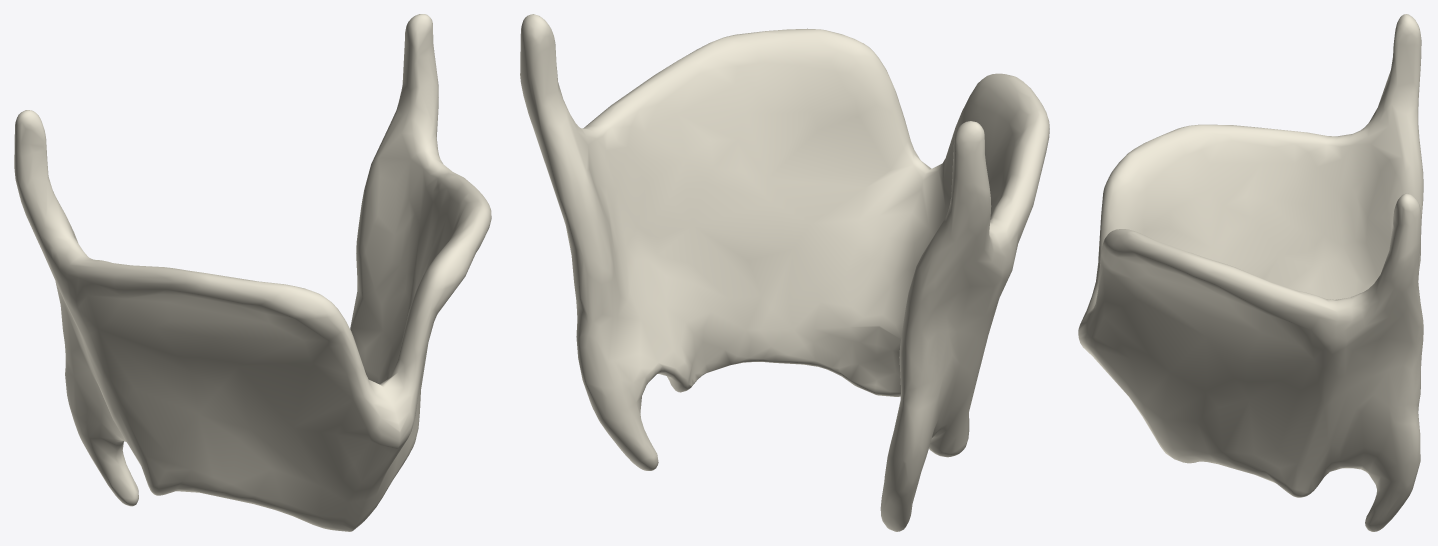
The picture shows the model from 3 angles, left to right: view 1: azimuth 30°, elevation 25°; view 2: azimuth 150°, elevation 25°; view 3: azimuth 270°, elevation 25°; orthographic projection. The views are drawn at different scales.
Parts seen in each view (by area): view 1: ZA_9cf0878d5d75e918; view 2: ZA_9cf0878d5d75e918; view 3: ZA_9cf0878d5d75e918.
Boxes of the visible parts, bbox=[...] form: ZA_9cf0878d5d75e918: bbox=[14, 14, 491, 531]; ZA_9cf0878d5d75e918: bbox=[520, 14, 1049, 531]; ZA_9cf0878d5d75e918: bbox=[1078, 14, 1423, 531].
Bounding box in the file's own units: 0.0412 × 0.0378 × 0.0315.
